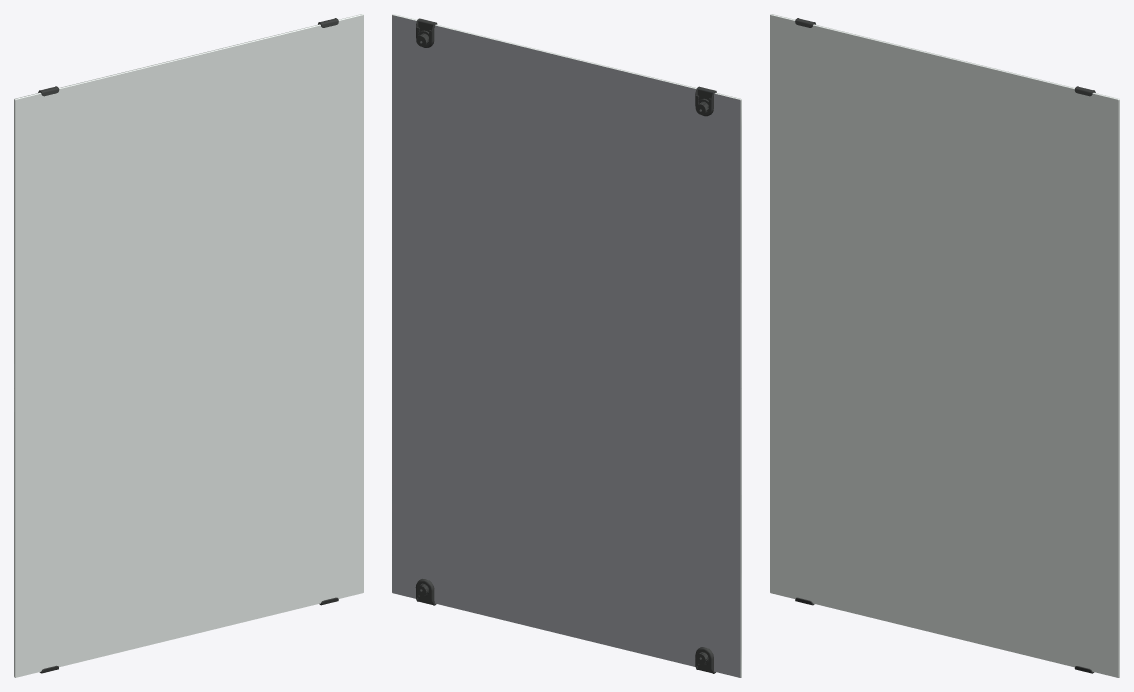
Rendered from lettan_lustro_80556401.glb.
3 renders of one model, left to right at view 1: azimuth 30°, elevation 25°; view 2: azimuth 150°, elevation 25°; view 3: azimuth 330°, elevation 25°, orthographic.
Parts seen in each view (by area): view 1: lettan_lustro_80556401; view 2: lettan_lustro_80556401; view 3: lettan_lustro_80556401.
Boxes of the visible parts, x1,y1,x2,y2 form: lettan_lustro_80556401: (14, 14, 363, 677); lettan_lustro_80556401: (392, 14, 741, 677); lettan_lustro_80556401: (770, 14, 1119, 677).
Size of the model in its own units: 0.5999 by 0.955 by 0.023.
2 materials, 2 textured.
